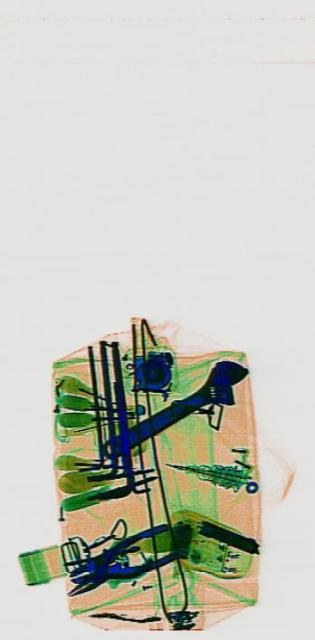Pliers: (65, 519, 174, 599), (63, 525, 153, 601)
Wrench: (98, 343, 251, 479)
